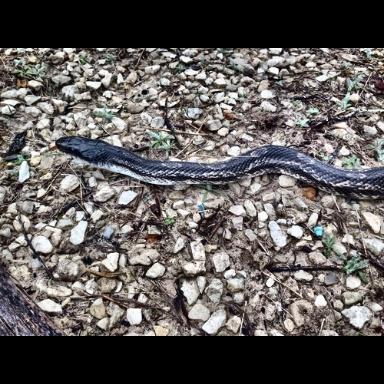snake: (56, 137, 384, 201)
